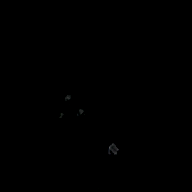v: (57, 93, 85, 118)
